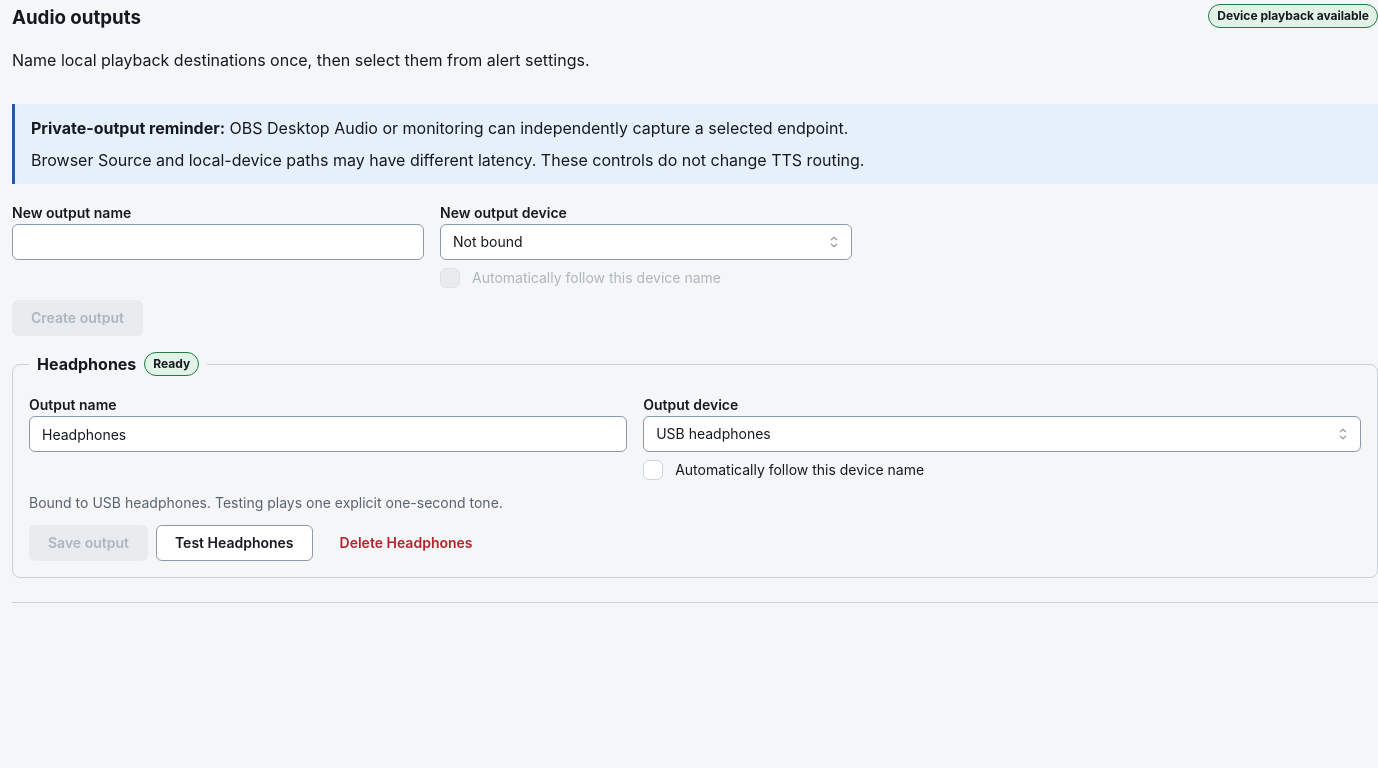
AudioOutputsPanel › requires affected-alert confirmation before rebinding a referenced route
Select "Stream speakers" in the dropdown labelled "Output device": (1002, 434) [643,416,1361,452]
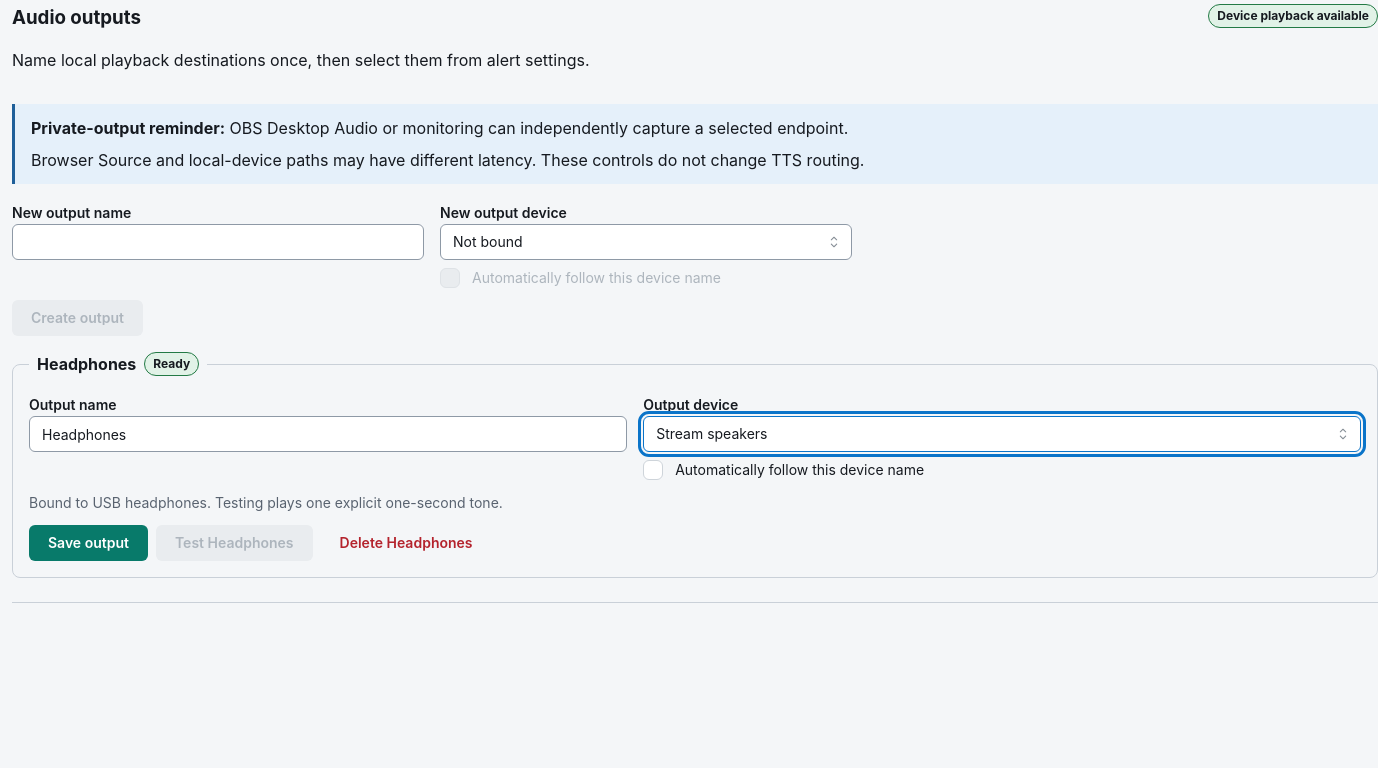
Click the button "Save output": (88, 543) [29,525,148,561]
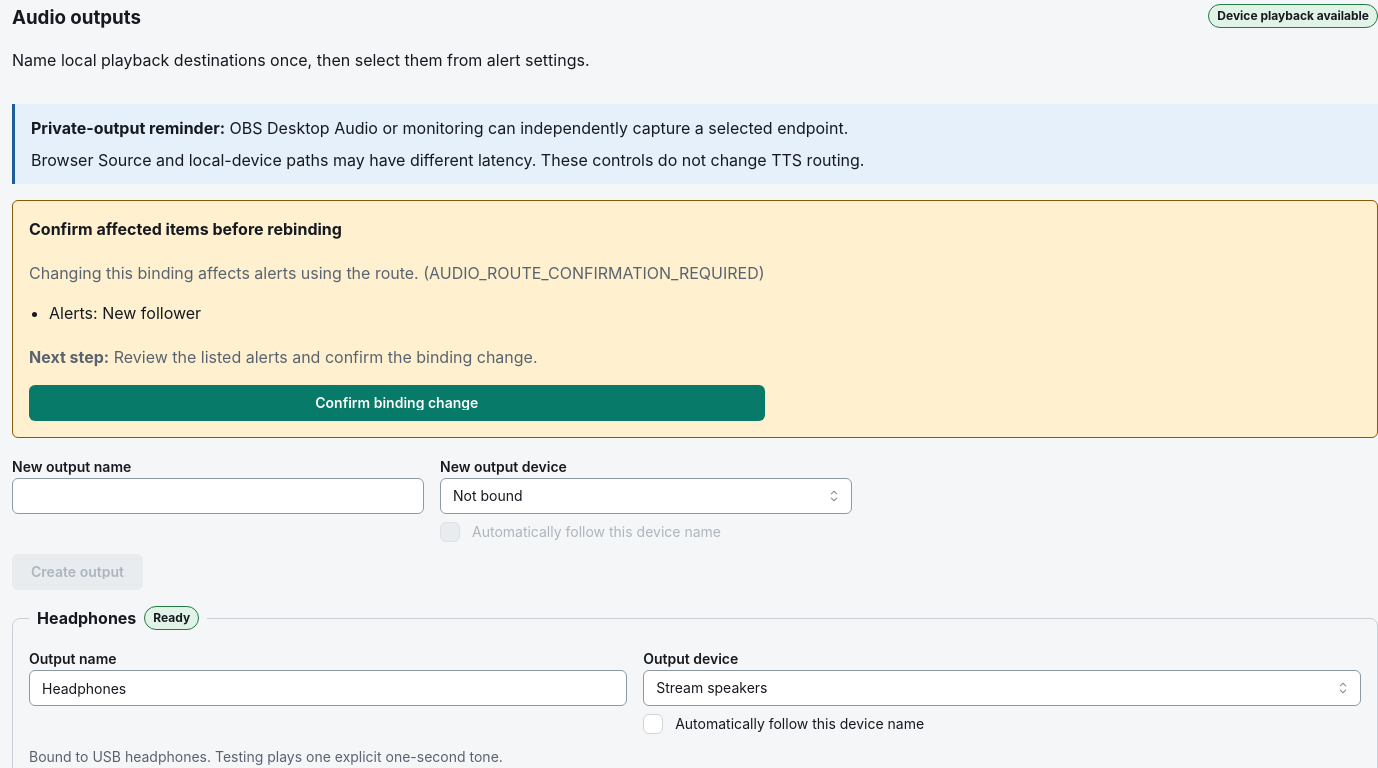
Expected: the message shows "Confirm affected items before rebinding", [29,219,342,239]
Expected: the list item "Alerts: New follower" is shown, [49,303,201,323]
Click the button "Confirm binding change": (397, 403) [29,385,765,421]
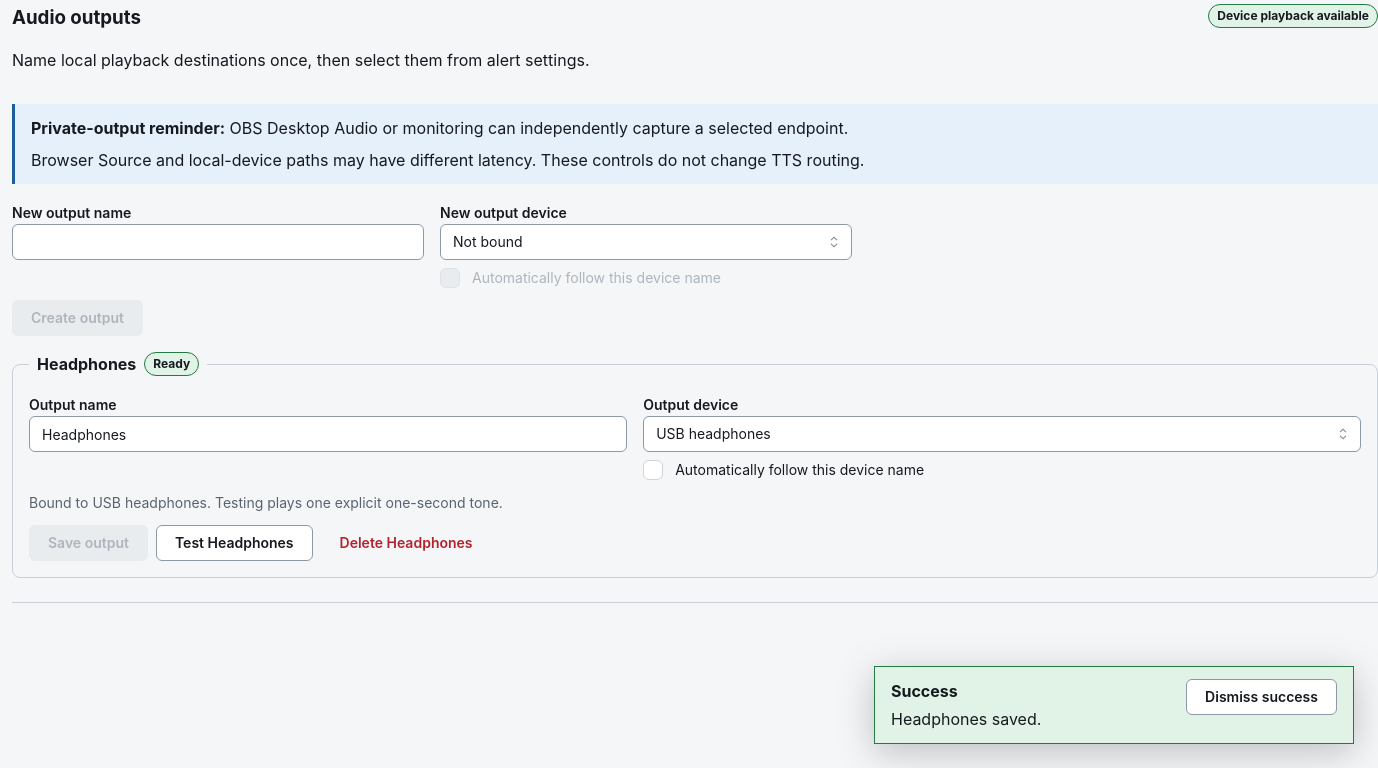
Expected: the text "Headphones saved." is shown, [891,707,1041,731]
